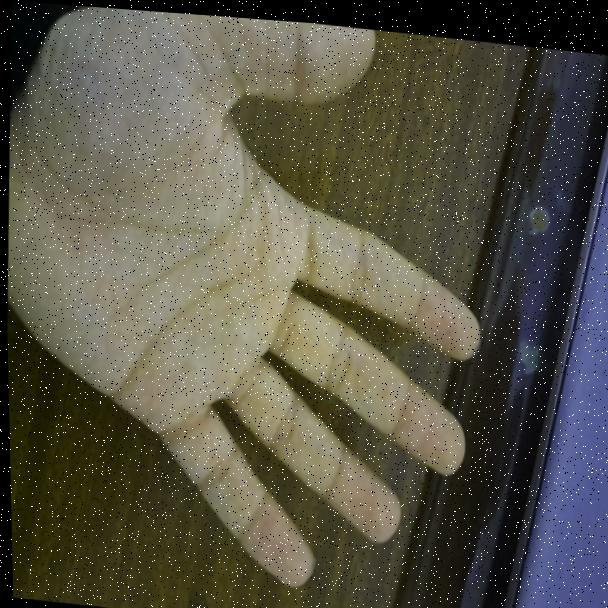five: (16, 1, 489, 604)
